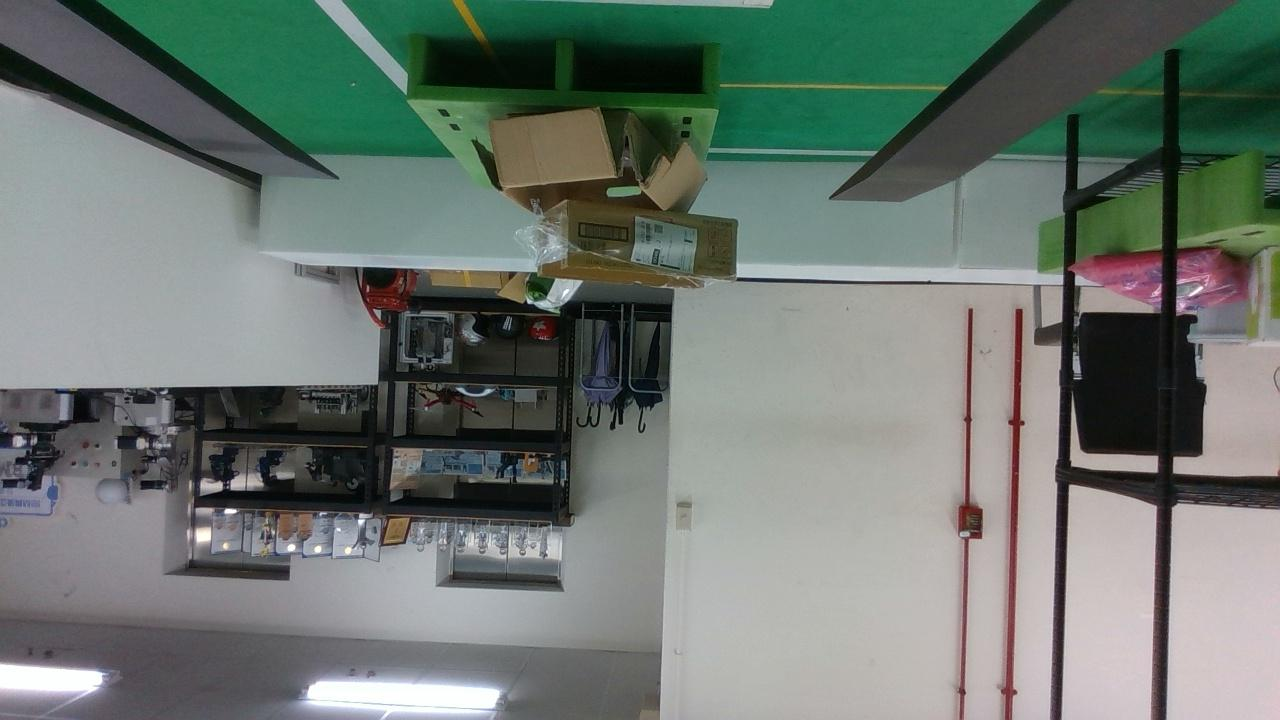Pallet: (404, 32, 726, 123)
